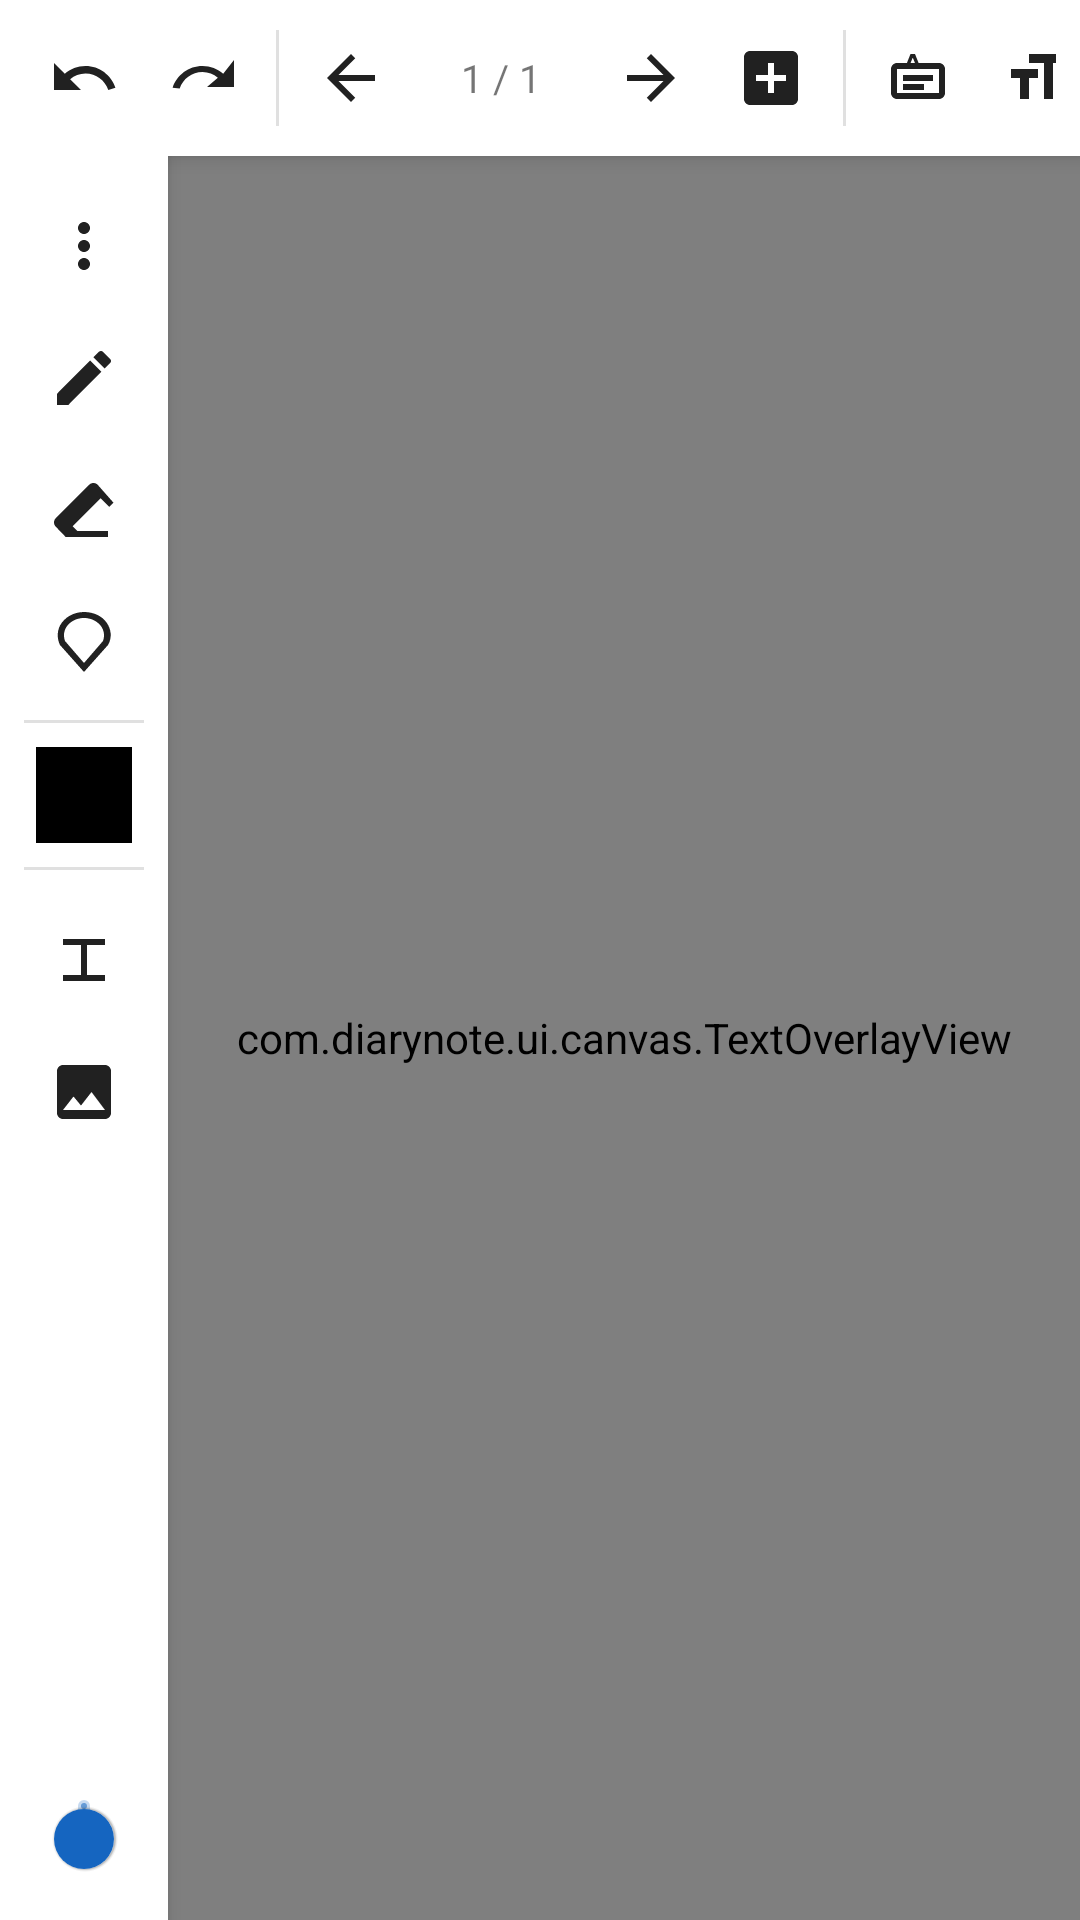

Where icons sit on this 1080w x 1920h app screen, as box(x1, y1, x2, y2):
Add page: box(744, 51, 798, 105)
Eraser: box(54, 483, 114, 537)
Insert image: box(57, 1065, 111, 1119)
Insert text: box(63, 939, 105, 981)
Lasso: box(57, 612, 111, 672)
Next page: box(627, 54, 675, 102)
Pen: box(57, 351, 111, 405)
Pen options: box(78, 222, 90, 270)
Previous page: box(327, 54, 375, 102)
Redo: box(172, 60, 234, 89)
Undo: box(54, 63, 116, 90)
